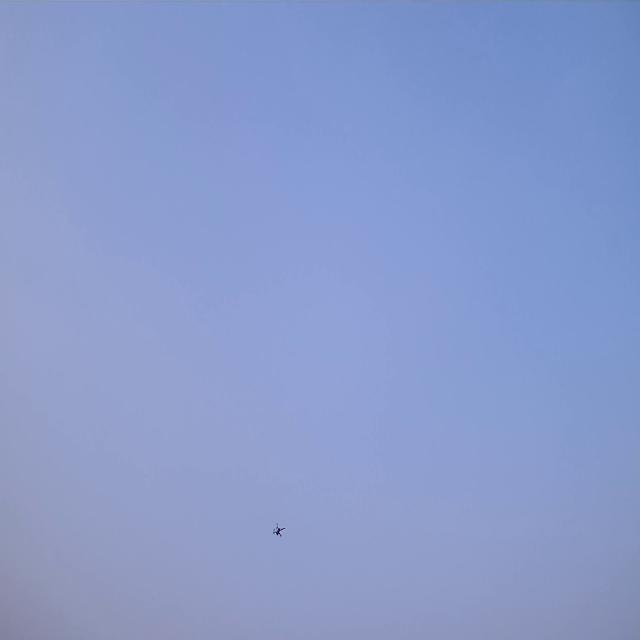UAV: (272, 521, 286, 539)
